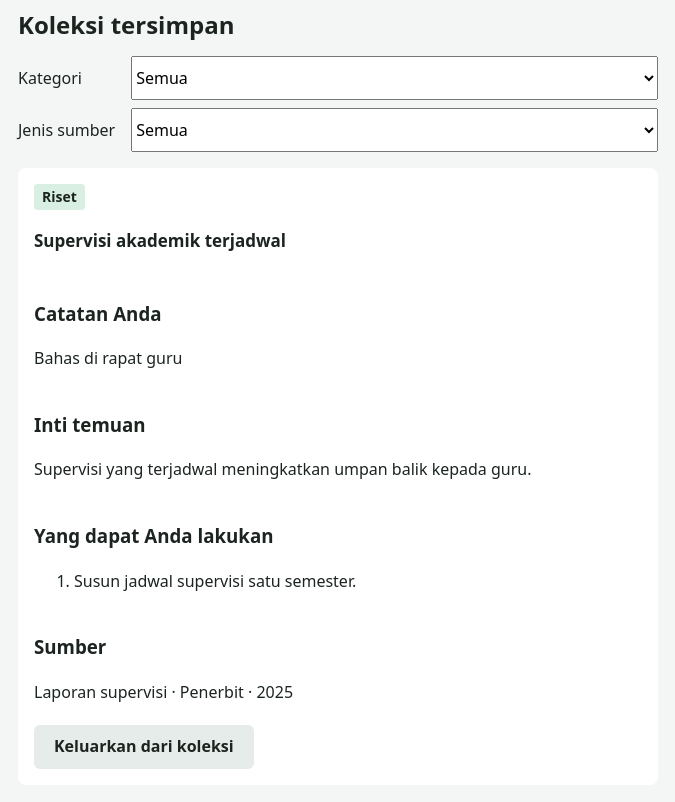
Test: keluarkan: DELETE, kartu hilang, kalimatnya tampil
Click the button "Keluarkan dari koleksi".
click(144, 747)  # box left=34, top=725, right=254, bottom=769
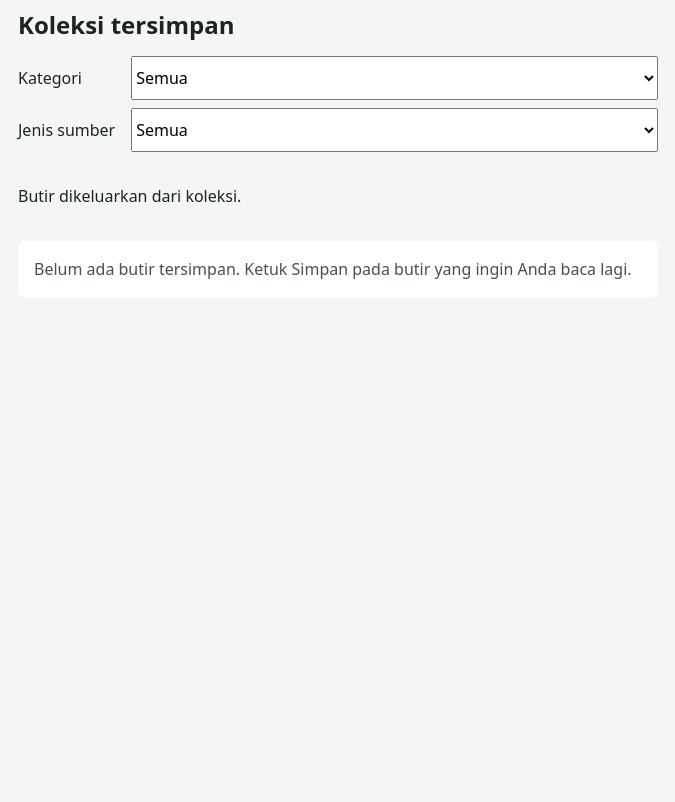
Now the text "Butir dikeluarkan dari koleksi." is shown, box left=18, top=185, right=241, bottom=207
Now the heading "Supervisi akademik terjadwal" is gone
